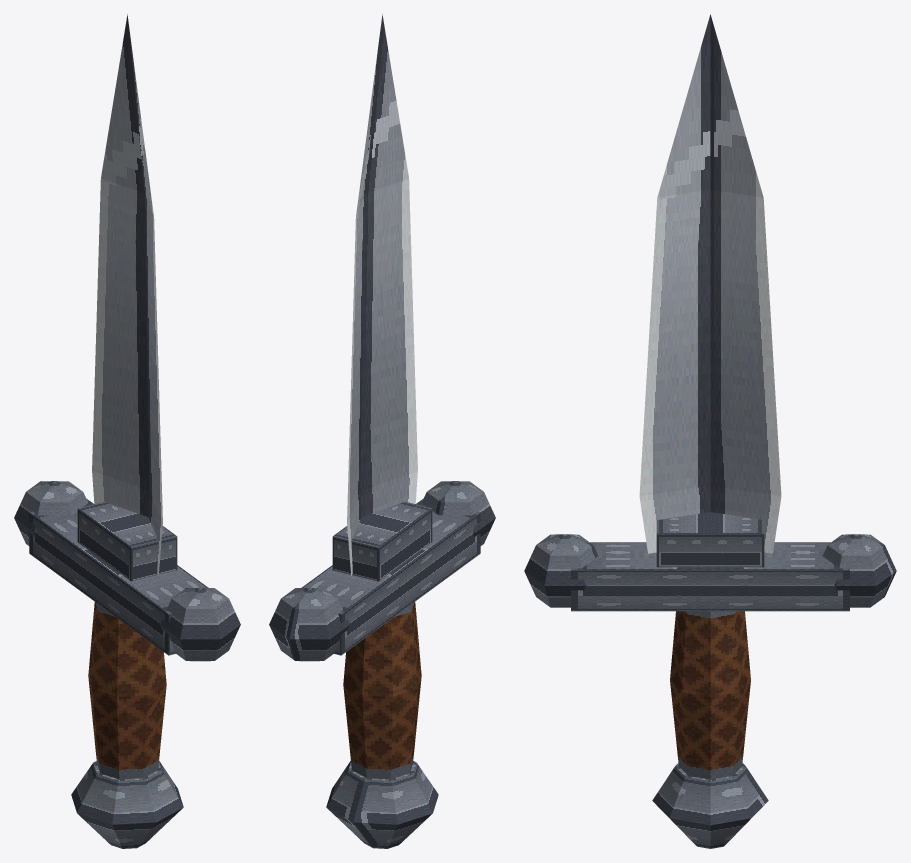
File: adaga_de_ferro.glb
The picture shows the model from 3 angles, left to right: view 1: azimuth 30°, elevation 25°; view 2: azimuth 150°, elevation 25°; view 3: azimuth 270°, elevation 25°; orthographic projection.
Visible parts, largest first — view 1: adaga_de_ferro; view 2: adaga_de_ferro; view 3: adaga_de_ferro.
Boxes of the visible parts, x1=… form: adaga_de_ferro: x1=14, y1=14, x2=240, y2=848; adaga_de_ferro: x1=269, y1=14, x2=495, y2=848; adaga_de_ferro: x1=524, y1=14, x2=896, y2=848.
Bounding box in the file's own units: 0.092 × 0.72 × 0.294.
1 material, 1 textured.
